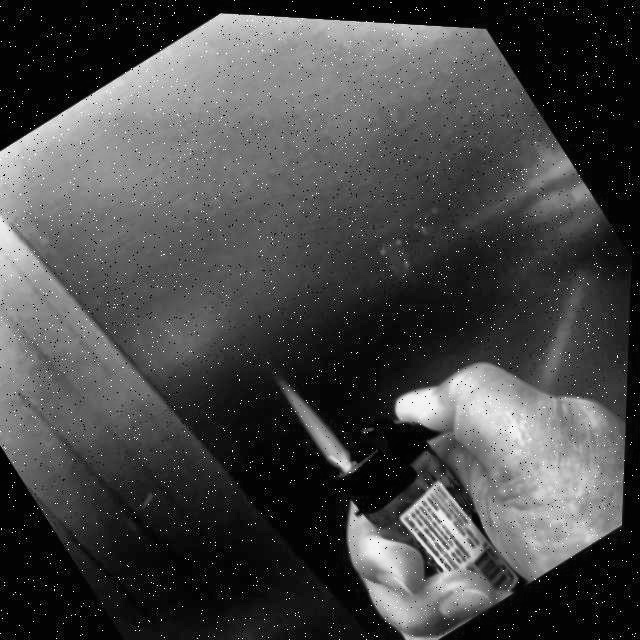Fire: (273, 363, 363, 473)
